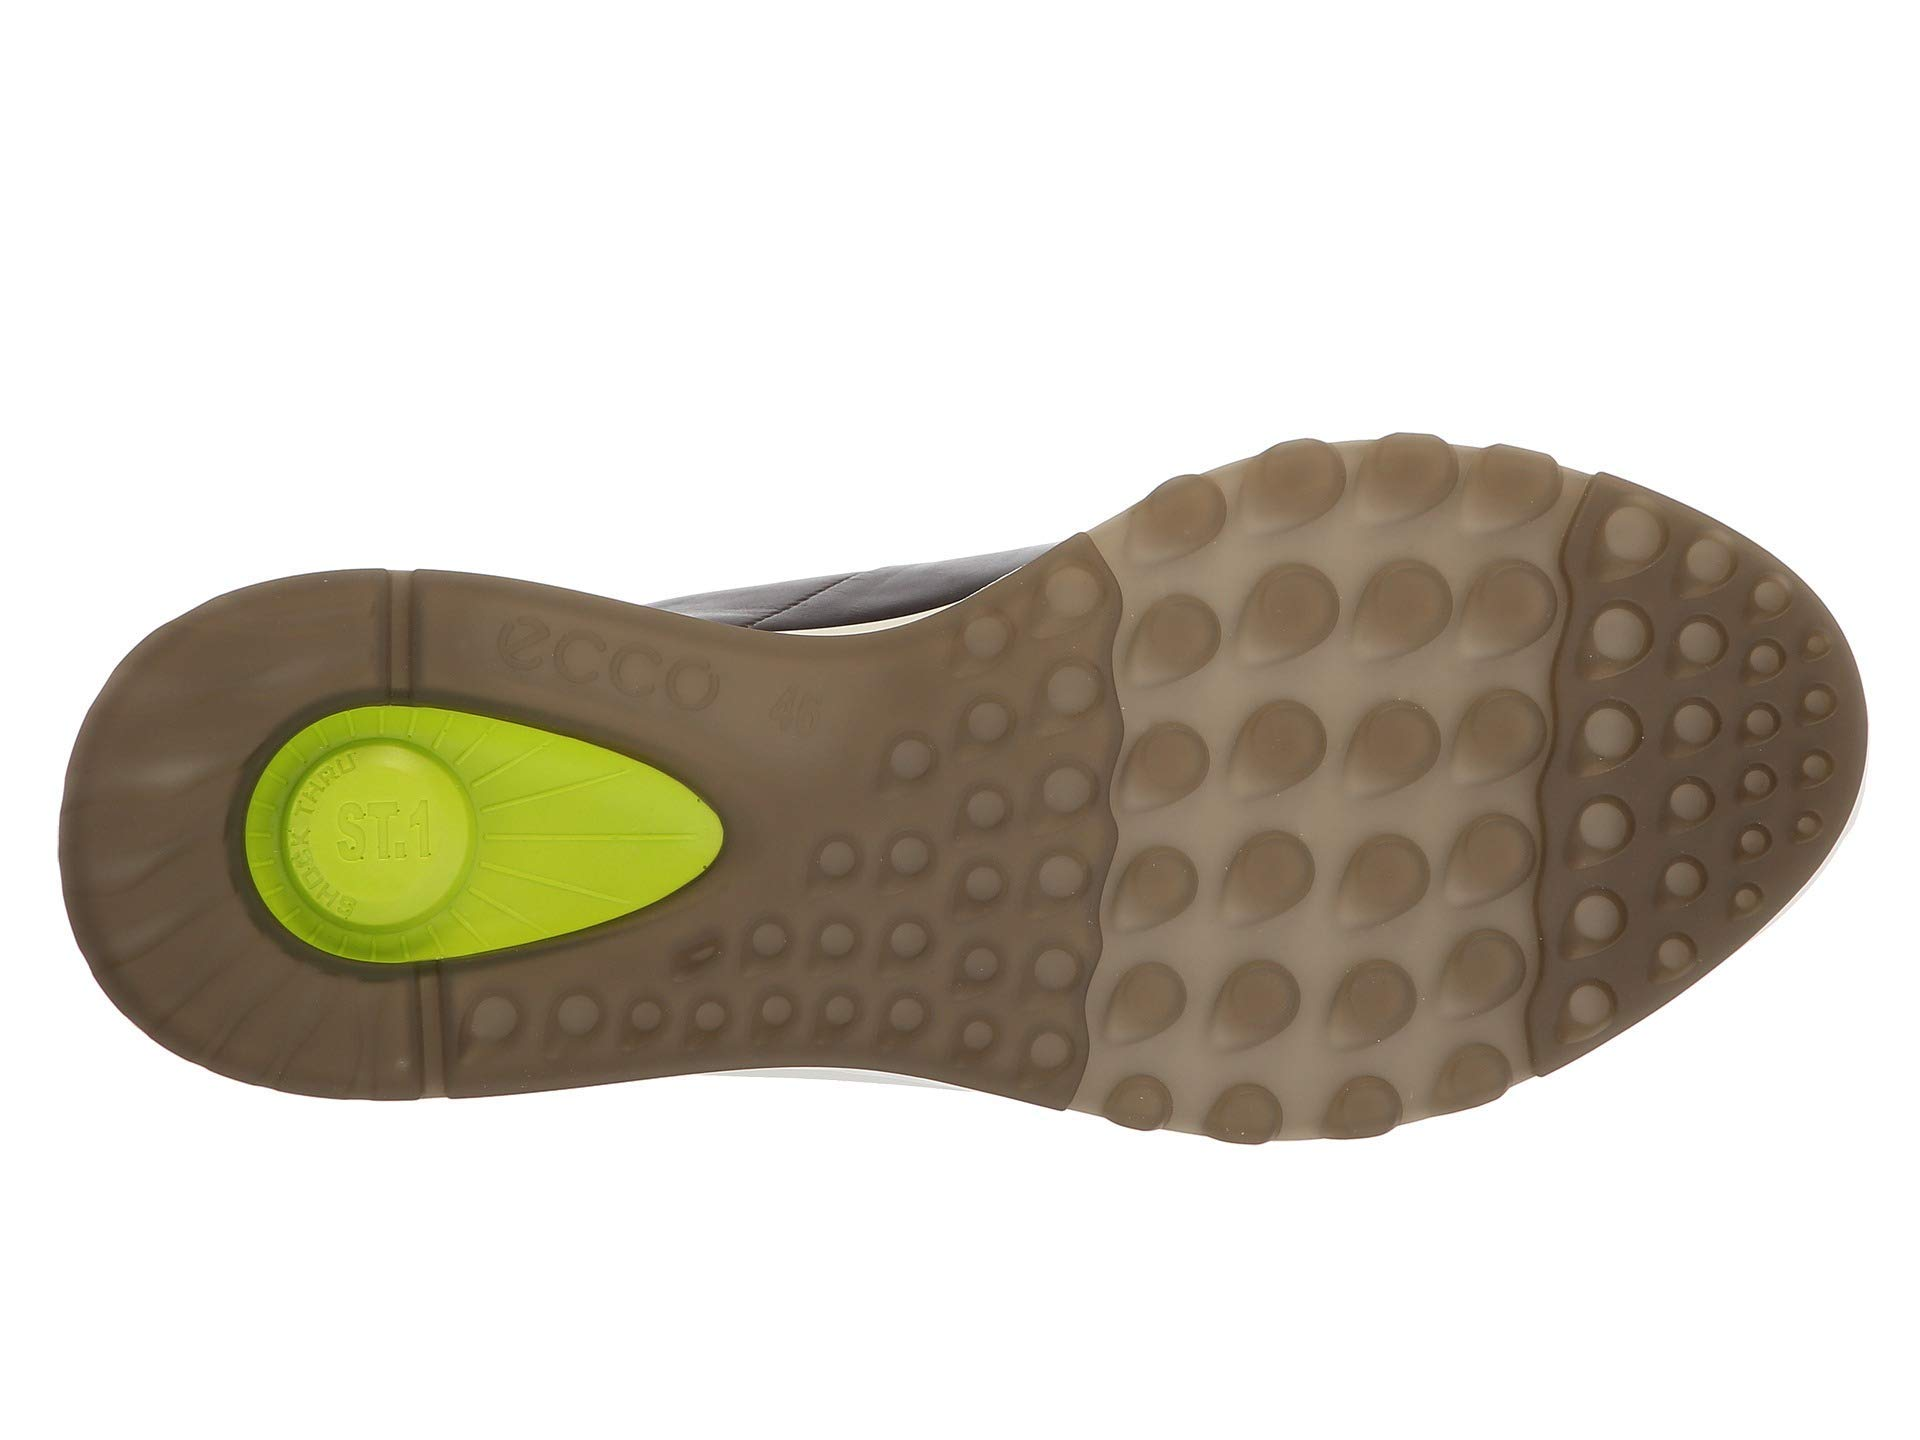circle: (1160, 469, 1684, 1057), (782, 747, 1111, 1113), (469, 590, 770, 790)
text: (469, 590, 770, 790)
